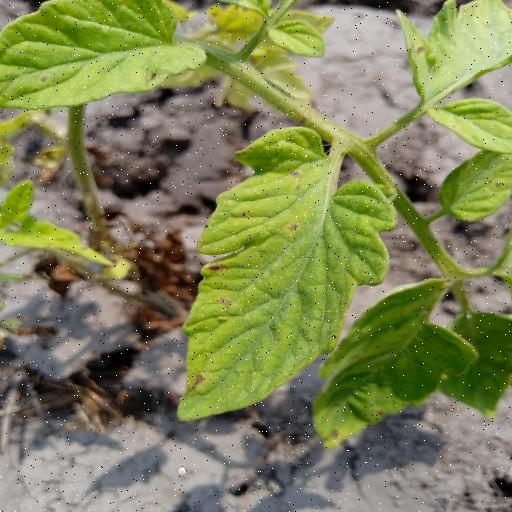Tomato_Brown_Spots: (171, 123, 403, 424), (310, 273, 482, 454), (0, 0, 211, 111), (387, 0, 512, 158)
